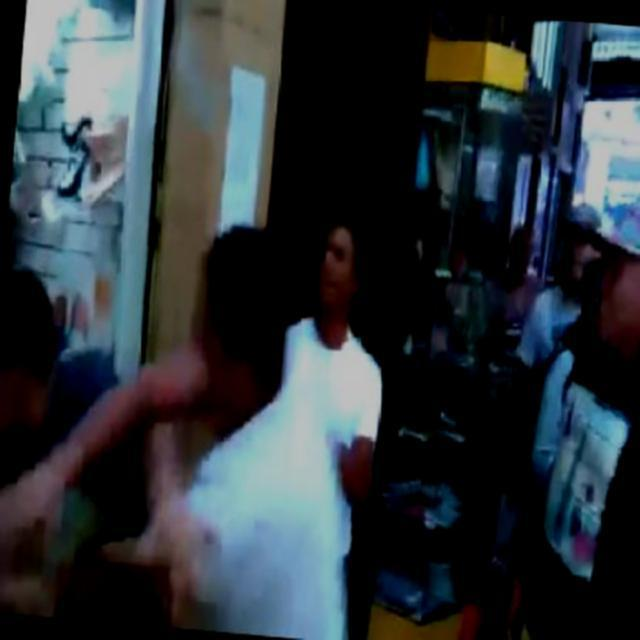fight: (0, 201, 346, 640)
